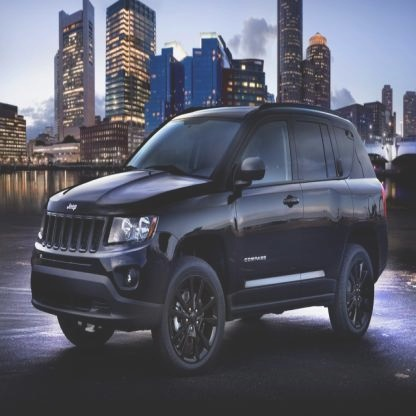Vehicle: (31, 103, 388, 382)
